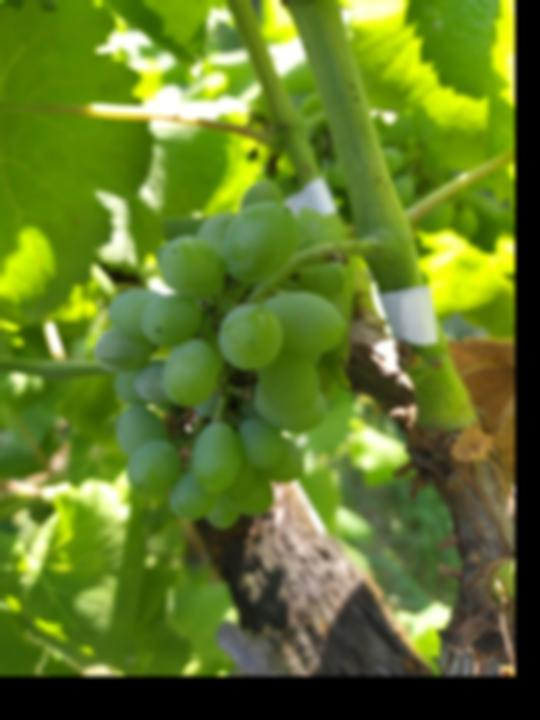grape: (92, 180, 347, 533)
